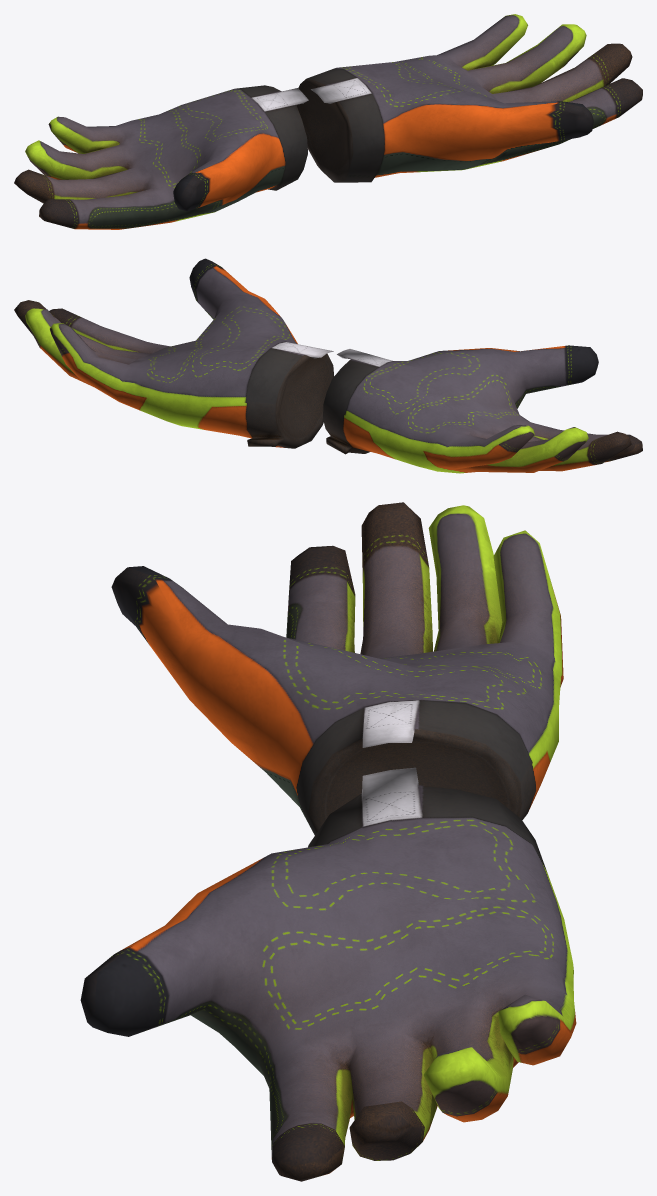
File: SM_Gloves.fbx
The picture shows the model from 3 angles, top to bottom: view 1: azimuth 30°, elevation 25°; view 2: azimuth 150°, elevation 25°; view 3: azimuth 270°, elevation 25°; orthographic projection. The views are drawn at different scales.
Visible parts, largest first — view 1: Safety_Gloves, Safety_Gloves.001; view 2: Safety_Gloves, Safety_Gloves.001; view 3: Safety_Gloves, Safety_Gloves.001.
Boxes of the visible parts, box(x1,y1,x2,y2) form: Safety_Gloves: box(296, 14, 642, 182); Safety_Gloves.001: box(14, 85, 308, 229); Safety_Gloves: box(14, 258, 334, 448); Safety_Gloves.001: box(323, 345, 642, 473); Safety_Gloves: box(80, 767, 576, 1181); Safety_Gloves.001: box(111, 502, 563, 835).
Bounding box in the file's own units: 0.4474 × 0.1573 × 0.0729.
